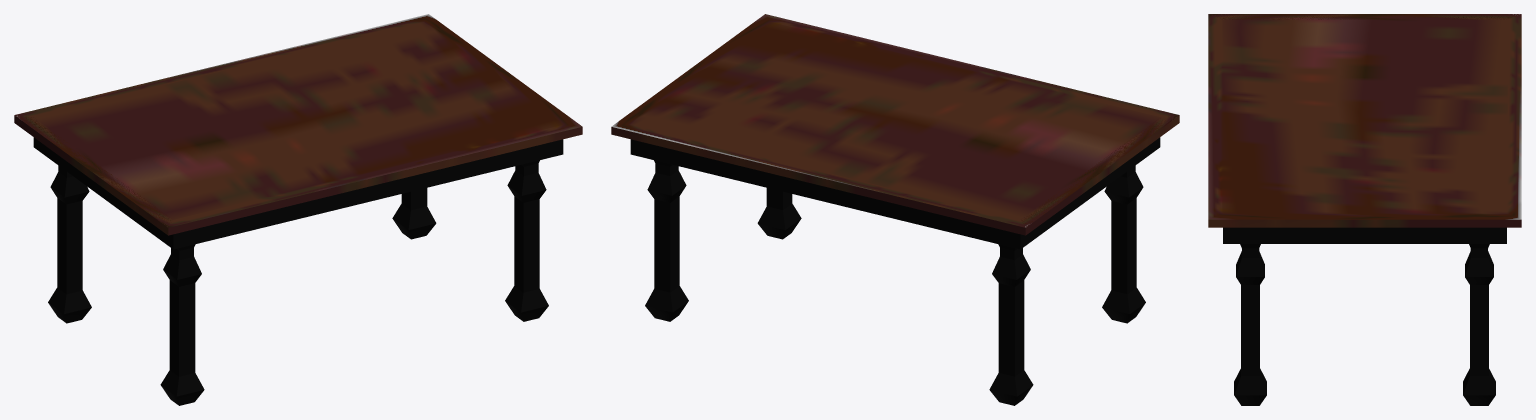
Rendered from KitchenTable.fbx.
The picture shows the model from 3 angles, left to right: view 1: azimuth 30°, elevation 25°; view 2: azimuth 150°, elevation 25°; view 3: azimuth 270°, elevation 25°; orthographic projection.
Visible parts, largest first — view 1: KitchenTable; view 2: KitchenTable; view 3: KitchenTable.
Boxes of the visible parts, x1,y1,x2,y2 form: KitchenTable: (14,14,582,405); KitchenTable: (611,14,1179,405); KitchenTable: (1208,14,1521,405).
Size of the model in its own units: 358 by 163 by 231.
